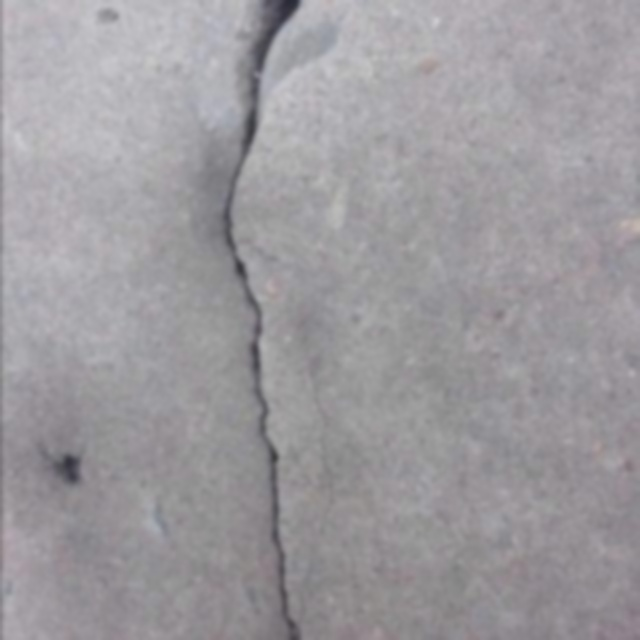SurfaceCrack: (180, 0, 346, 640)
